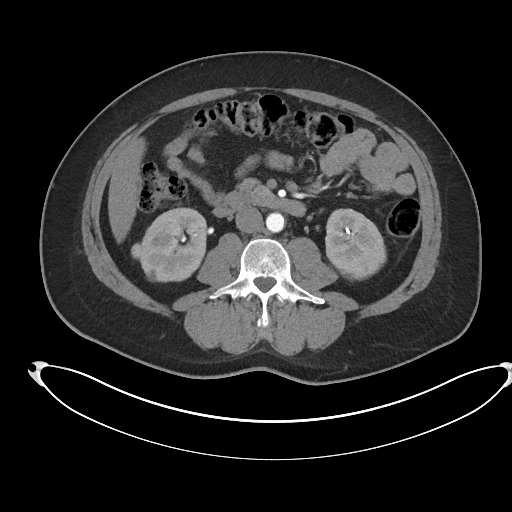Lesion: (129, 242, 142, 260)
